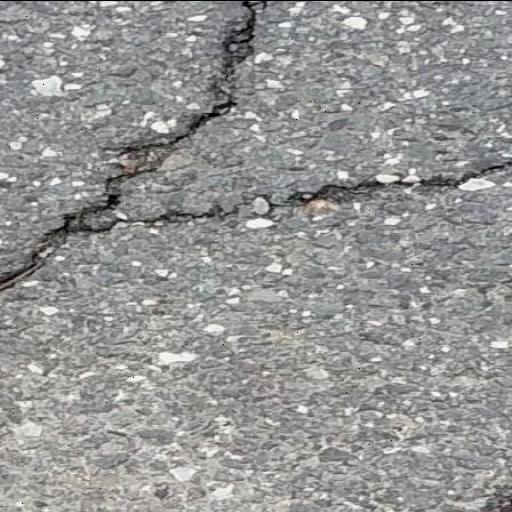spalling: (0, 7, 264, 299), (134, 161, 509, 235)
